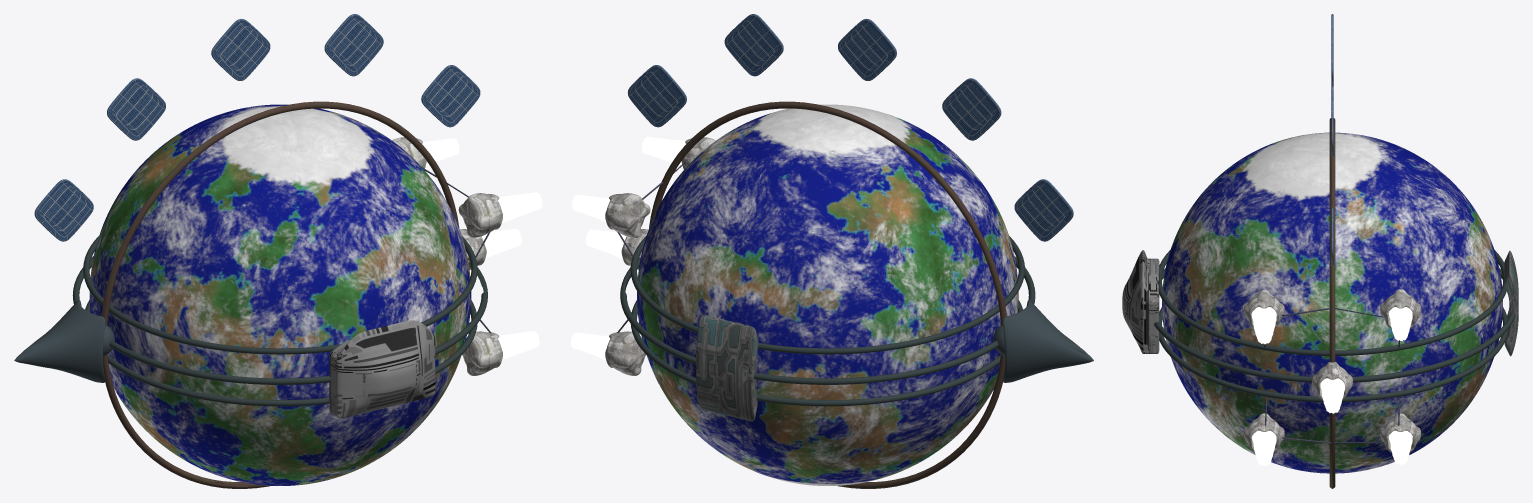
Rendered from cosmic-punk.glb.
3 views of the same model, side by side, from view 1: azimuth 30°, elevation 25°; view 2: azimuth 150°, elevation 25°; view 3: azimuth 270°, elevation 25° (orthographic). The views are drawn at different scales.
Parts seen in each view (by area): view 1: Icosphere, Cube.002, Cube.001, Torus.004, Sphere, Torus.001, Torus.007, Torus.003, Cylinder.001, Cylinder.002, Plane.004, Plane.003 (+2 smaller); view 2: Icosphere, Cube.002, Cube, Torus.004, Sphere, Torus.001, Torus.007, Torus.003, Cylinder.004, Cylinder.003, Plane.004, Plane (+2 smaller); view 3: Icosphere, Cube.001, Torus.001, Torus.003, Torus.007, Torus.004, Cube, Cylinder.004, Cylinder.003, Plane.004, Cylinder.002, Cylinder (+6 smaller).
Part boxes in pixels (x1,y1,x2,y2): Icosphere: (89,104,471,485); Cube.002: (34,14,480,241); Cube.001: (329,320,435,418); Torus.004: (101,101,459,488); Sphere: (14,300,114,382); Torus.001: (83,236,477,354); Torus.007: (72,256,487,384); Torus.003: (85,299,477,406); Cylinder.001: (458,193,502,237); Cylinder.002: (462,331,502,375); Plane.004: (498,192,542,222); Plane.003: (498,331,539,359); Icosphere: (637,104,1018,485); Cube.002: (627,14,1073,241); Cube: (696,315,758,421); Torus.004: (649,101,1006,488); Sphere: (993,300,1093,382); Torus.001: (630,236,1024,354); Torus.007: (620,256,1035,384); Torus.003: (630,300,1023,406); Cylinder.004: (605,193,650,237); Cylinder.003: (605,331,645,375); Plane.004: (642,136,685,167); Plane: (586,229,626,258); Icosphere: (1162,132,1502,473); Cube.001: (1122,250,1159,353); Torus.001: (1159,250,1506,355); Torus.003: (1159,307,1507,402); Torus.007: (1154,268,1515,382); Torus.004: (1329,118,1335,488); Cube: (1504,251,1518,356); Cylinder.004: (1380,289,1421,329); Cylinder.003: (1380,413,1421,452); Plane.004: (1251,307,1276,344); Cylinder.002: (1243,413,1284,452); Cylinder: (1312,362,1352,400).
Size of the model in its own units: 0.6096 by 0.5489 by 0.4649.
Materials: 19 (18 with a texture image).
